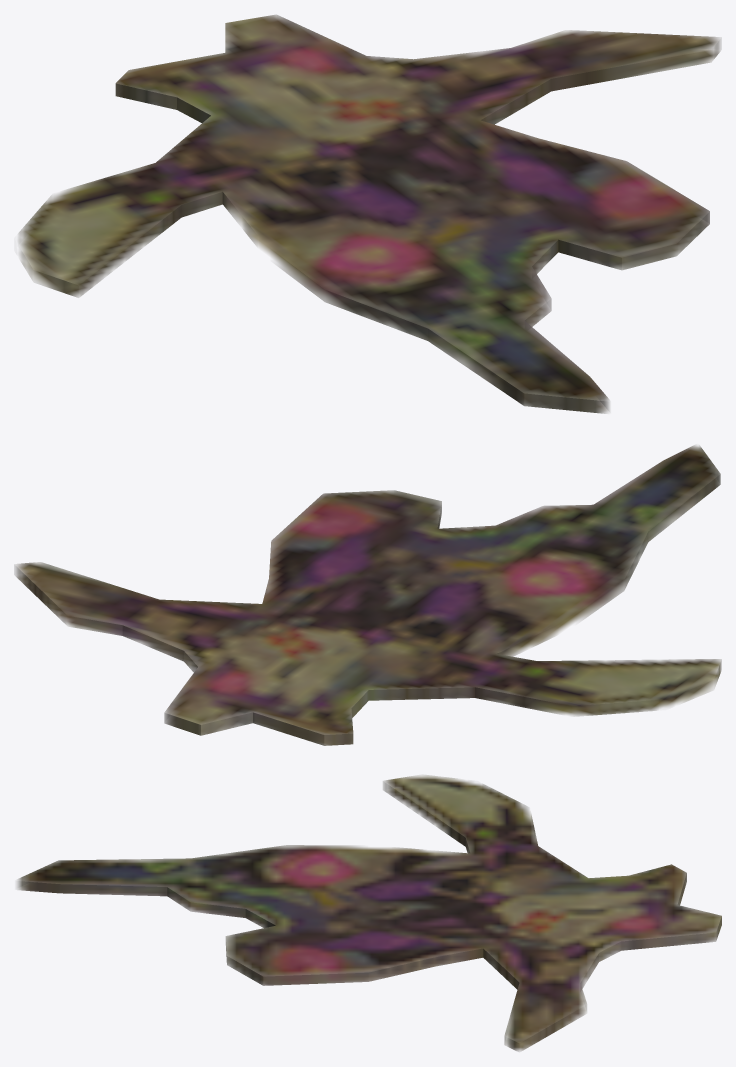
Rendered from ChimMay.glb.
3 renders of one model, top to bottom at view 1: azimuth 30°, elevation 25°; view 2: azimuth 150°, elevation 25°; view 3: azimuth 270°, elevation 25°, orthographic. The views are drawn at different scales.
Visible parts, largest first — view 1: ChimMay; view 2: ChimMay; view 3: ChimMay.
Boxes of the visible parts, x1=… form: ChimMay: x1=17, y1=14, x2=721, y2=413; ChimMay: x1=14, y1=444, x2=721, y2=745; ChimMay: x1=15, y1=774, x2=721, y2=1051.
Size of the model in its own units: 0.3114 by 0.005 by 0.3463.
Materials: 1 (1 with a texture image).
